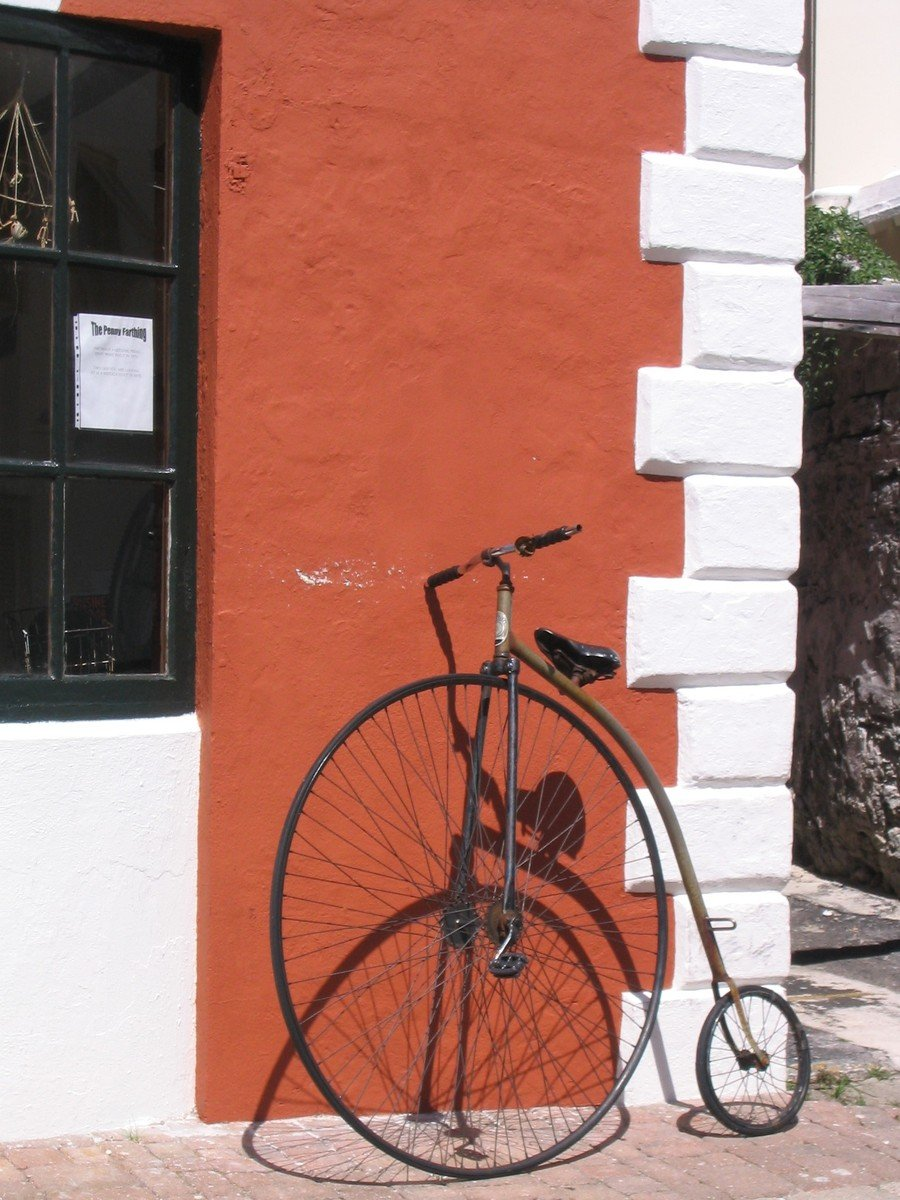Bicycle: (152, 402, 856, 1200)
